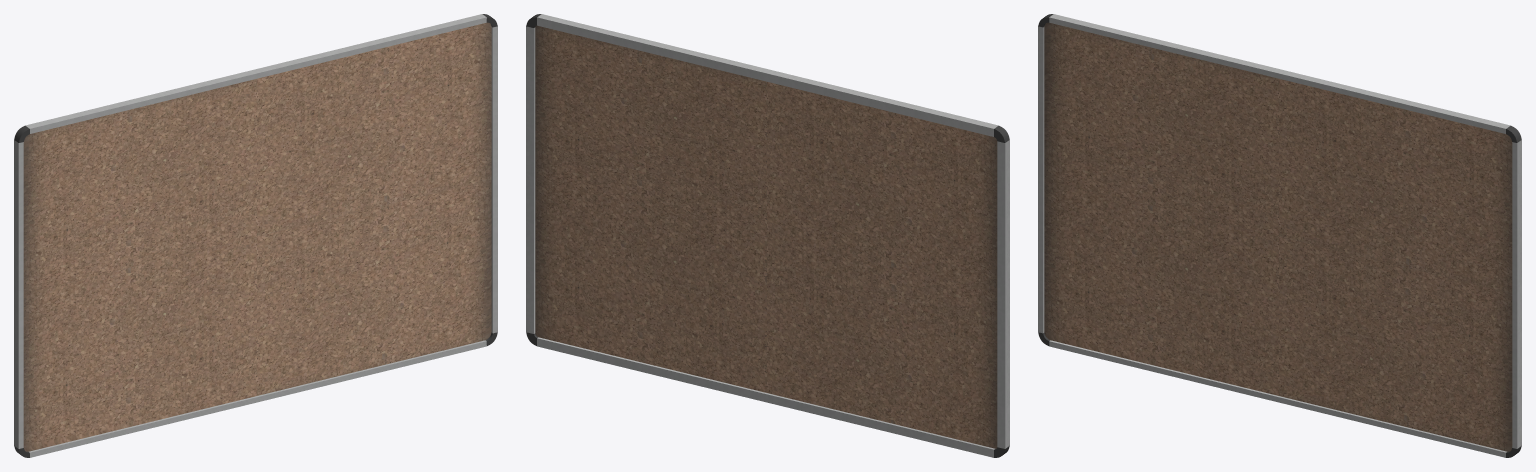
File: propCorkboard.fbx
The picture shows the model from 3 angles, left to right: view 1: azimuth 30°, elevation 25°; view 2: azimuth 150°, elevation 25°; view 3: azimuth 330°, elevation 25°; orthographic projection.
Visible parts, largest first — view 1: propCorkboard; view 2: propCorkboard; view 3: propCorkboard.
Part boxes in pixels (box(x1,y1,x2,y2)): propCorkboard: box(14, 14, 497, 457); propCorkboard: box(526, 14, 1009, 457); propCorkboard: box(1038, 14, 1521, 457).
Size of the model in its own units: 148 by 96.94 by 2.5.
Materials: 3 (2 with a texture image).
